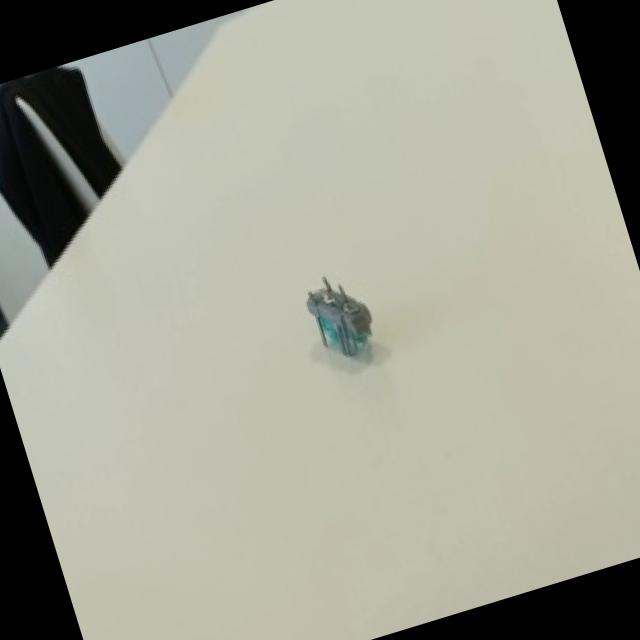5_NanoBug_GrisClaro: (284, 245, 404, 398)
